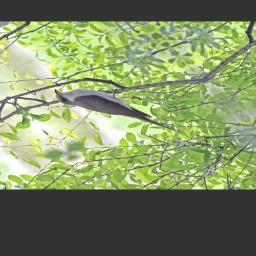Cuckoo: (47, 66, 187, 157)
